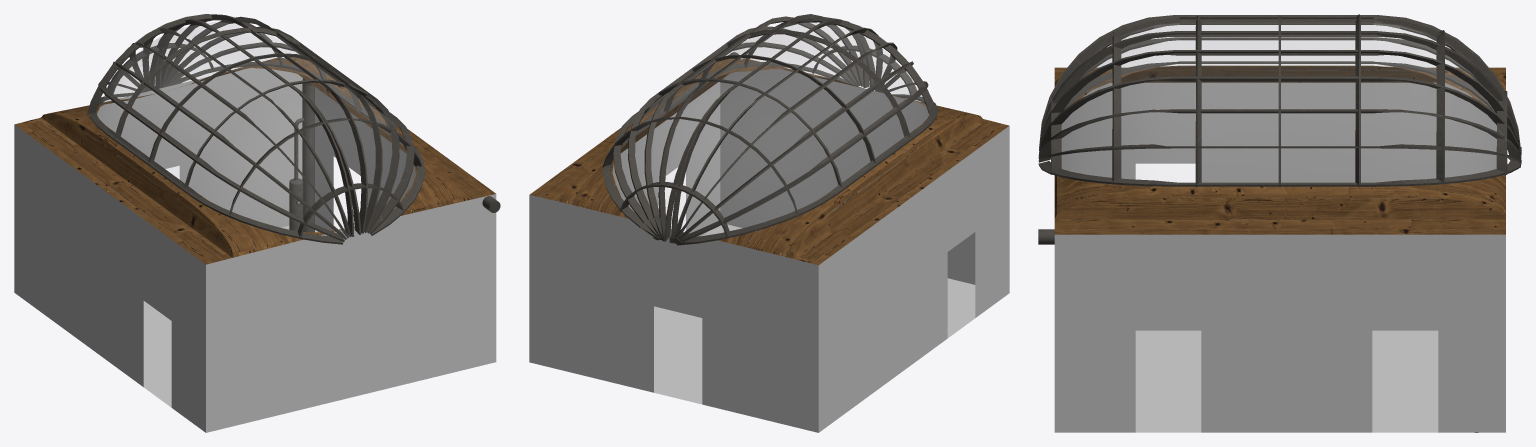
Rendered from 8×7 room.fbx.
The picture shows the model from 3 angles, left to right: view 1: azimuth 30°, elevation 25°; view 2: azimuth 150°, elevation 25°; view 3: azimuth 270°, elevation 25°; orthographic projection. The views are drawn at different scales.
Visible parts, largest first — view 1: Circle.001; view 2: Circle.001; view 3: Circle.001.
Boxes of the visible parts, x1,y1,x2,y2 form: Circle.001: (14, 14, 500, 432); Circle.001: (529, 14, 1009, 432); Circle.001: (1038, 14, 1521, 432).
Size of the model in its own units: 700 by 632 by 857.
